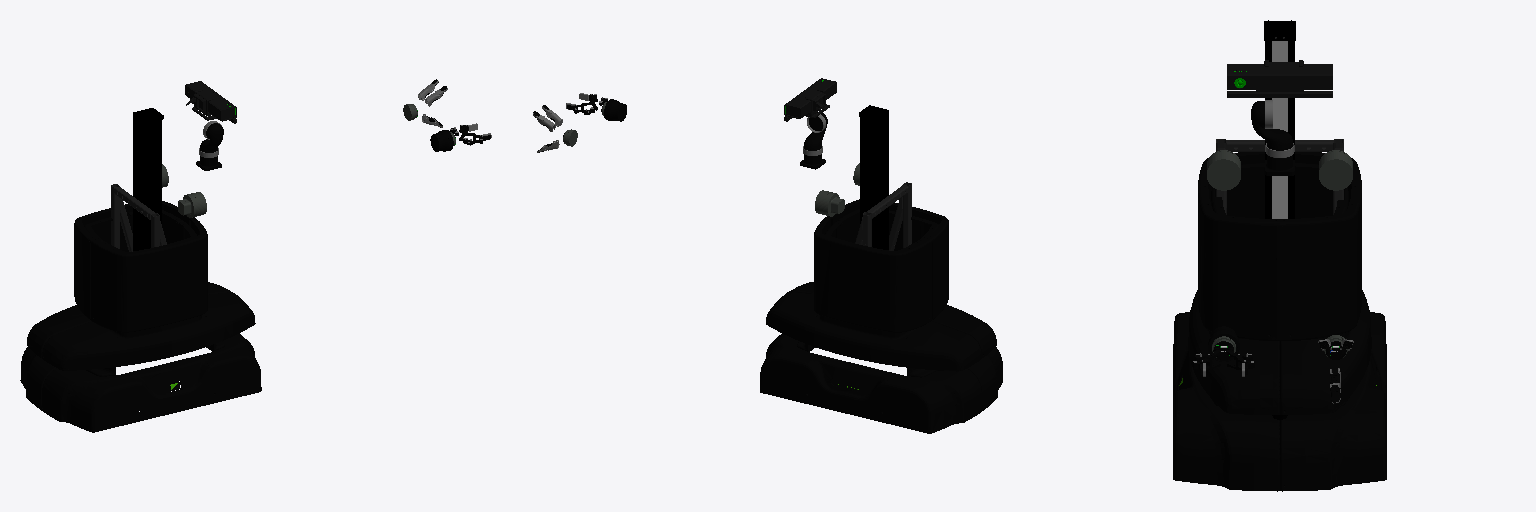
--- Render facts (derived) ---
3 views of the same robot in one strip: view 1: azimuth 30°, elevation 25°; view 2: azimuth 150°, elevation 25°; view 3: azimuth 270°, elevation 25° (orthographic).
Model movo with 53 links and 52 joints (21 revolute, 4 continuous, 2 prismatic, 25 fixed), rooted at base_link, posed every joint at zero.
Visible links, largest first — view 1: lower_body_link, mid_body_link, linear_actuator_fixed_link, kinect2_link, right_base_link, pan_link; view 2: lower_body_link, mid_body_link, linear_actuator_fixed_link, kinect2_link, left_base_link, pan_link; view 3: lower_body_link, mid_body_link, linear_actuator_fixed_link, kinect2_link, pan_link, right_base_link, left_base_link, pan_base_link.
Link boxes in pixels (<box>): lower_body_link: <box>20,210,261,432</box>; mid_body_link: <box>74,201,207,332</box>; linear_actuator_fixed_link: <box>111,108,166,251</box>; kinect2_link: <box>185,81,236,123</box>; right_base_link: <box>178,192,206,217</box>; pan_link: <box>200,121,223,152</box>; lower_body_link: <box>760,209,1002,433</box>; mid_body_link: <box>814,199,948,332</box>; linear_actuator_fixed_link: <box>855,105,911,250</box>; kinect2_link: <box>784,78,836,121</box>; left_base_link: <box>815,190,844,216</box>; pan_link: <box>804,112,827,150</box>; lower_body_link: <box>1173,163,1386,491</box>; mid_body_link: <box>1198,152,1361,340</box>; linear_actuator_fixed_link: <box>1216,20,1343,218</box>; kinect2_link: <box>1227,60,1332,97</box>; pan_link: <box>1251,100,1292,150</box>; right_base_link: <box>1207,150,1240,190</box>; left_base_link: <box>1319,150,1352,190</box>; pan_base_link: <box>1265,143,1294,175</box>.
Size in the robot's own frame: 1.71 by 0.5097 by 1.06 metres.
25 mesh visuals loaded from 28 distinct referenced files (15 Collada DAE); not drawn: 20 (reference not matched to a file when rendering).

URDF robot description (movo):
<?xml version="1.0" ?>
<!-- =================================================================================== -->
<!-- |    This document was autogenerated by xacro from [local-path]/movo_ws/src/kinova-movo-bare/movo_common/movo_description/urdf/movo.urdf.xacro | -->
<!-- |    EDITING THIS FILE BY HAND IS NOT RECOMMENDED                                 | -->
<!-- =================================================================================== -->
<!--
Software License Agreement (BSD)
\file      movo.urdf.xacro
\authors   Patrick Hussey
\copyright Copyright (c) 2017, Kinova Robotics inc. All rights reserved.
Redistribution and use in source and binary forms, with or without modification,
are permitted provided that the following conditions are met:
    * Redistributions of source code must retain the above copyright notice,
      this list of conditions and the following disclaimer.
    * Redistributions in binary form must reproduce the above copyright notice,
      this list of conditions and the following disclaimer in the documentation
      and/or other materials provided with the distribution.
    * Neither the name of the copyright holder nor the names of its contributors
      may be used to endorse or promote products derived from this software
      without specific prior written permission.
THIS SOFTWARE IS PROVIDED BY THE COPYRIGHT HOLDERS AND CONTRIBUTORS
"AS IS" AND ANY EXPRESS OR IMPLIED WARRANTIES, INCLUDING, BUT NOT
LIMITED TO, THE IMPLIED WARRANTIES OF MERCHANTABILITY AND FITNESS FOR
A PARTICULAR PURPOSE ARE DISCLAIMED. IN NO EVENT SHALL THE COPYRIGHT HOLDER OR
CONTRIBUTORS BE LIABLE FOR ANY DIRECT, INDIRECT, INCIDENTAL, SPECIAL,
EXEMPLARY, OR CONSEQUENTIAL DAMAGES (INCLUDING, BUT NOT LIMITED TO,
PROCUREMENT OF SUBSTITUTE GOODS OR SERVICES; LOSS OF USE, DATA, OR
PROFITS; OR BUSINESS INTERRUPTION) HOWEVER CAUSED AND ON ANY THEORY OF
LIABILITY, WHETHER IN CONTRACT, STRICT LIABILITY, OR TORT (INCLUDING
NEGLIGENCE OR OTHERWISE) ARISING IN ANY WAY OUT OF THE USE OF THIS
SOFTWARE, EVEN IF ADVISED OF THE POSSIBILITY OF SUCH DAMAGE.
-->
<!-- https://github.com/Learning-and-Intelligent-Systems/movo_ws/blob/master/src/kinova-movo-bare/movo_common/movo_description/urdf/movo.custom.urdf -->
<robot name="movo" xmlns:xacro="http://ros.org/wiki/xacro">
  <!-- Included URDF/XACRO Files -->
  <gazebo>
    <plugin filename="libgazebo_ros_control.so" name="gazebo_ros_control">
      <robotNamespace>/</robotNamespace>
    </plugin>
    <plugin filename="libgazebo_ros_force_based_move.so" name="object_controller">
      <robotNamespace>/</robotNamespace>
      <commandTopic>/movo/cmd_vel</commandTopic>
      <odometryTopic>/movo/odometry/wheel_odometry</odometryTopic>
      <odometryFrame>odom</odometryFrame>
      <odometryRate>100.0</odometryRate>
      <cmdVelTimeOut>0.2</cmdVelTimeOut>
      <robotBaseFrame>base_link</robotBaseFrame>
      <publishOdometryTf>0</publishOdometryTf>
      <yaw_velocity_p_gain>500.0</yaw_velocity_p_gain>
      <x_velocity_p_gain>10000.0</x_velocity_p_gain>
      <y_velocity_p_gain>10000.0</y_velocity_p_gain>
    </plugin>
    <plugin filename="libgazebo_ros_p3d.so" name="gazebo_ros_p3d">
      <bodyName>base_link</bodyName>
      <topicName>ground_truth_odom</topicName>
      <alwaysOn>true</alwaysOn>
      <updateRate>100.0</updateRate>
    </plugin>
  </gazebo>
  <!-- Base link is the center of the robot's chassis between the motors projected on the ground -->
  <link name="base_link" />
  <gazebo reference="base_link">
    <mu1>0.0</mu1>
  </gazebo>
  <joint name="base_chassis_joint" type="fixed">
    <origin rpy="0 0 0" xyz="0 0 0.0762" />
    <parent link="base_link" />
    <child link="base_chassis_link" />
  </joint>
  <link name="base_chassis_link">
    <inertial>
      <mass value="44.2877" />
      <origin xyz="-0.009506 -0.013039 0.032319" />
      <inertia ixx="0.000165" ixy="0" ixz="0" iyx="0" iyy="0.000559" iyz="0" izx="0" izy="0" izz="0.000714" />
    </inertial>
    <collision>
      <geometry>
        <mesh filename="package://movo_description/meshes/movo_components/collision/vector_base_collision.stl" />
      </geometry>
    </collision>
    <visual>
      <origin rpy="0 0 0" xyz="0 0 0" />
      <geometry>
        <mesh filename="package://movo_description/meshes/movo_components/visual/vector_base.dae" />
      </geometry>
    </visual>
  </link>
  <gazebo reference="base_chassis_link">
    <laserRetro>0</laserRetro>
  </gazebo>
  <gazebo reference="base_chassis_link">
    <mu1>0.0</mu1>
  </gazebo>
  <joint name="linear_actuator_fixed_joint" type="fixed">
    <origin rpy="0 0 0" xyz="0 0 0" />
    <parent link="base_chassis_link" />
    <child link="linear_actuator_fixed_link" />
  </joint>
  <link name="linear_actuator_fixed_link">
    <inertial>
      <mass value="15.877331" />
      <origin xyz="0.013724 0.000002 0.509500" />
      <inertia ixx="0.962473" ixy="0.000047" ixz="0.053722" iyx="0.000047" iyy="0.968691" iyz="-0.000058" izx="0.053722" izy="-0.000058" izz="0.098853" />
    </inertial>
    <collision>
      <geometry>
        <mesh filename="package://movo_description/meshes/movo_components/collision/movo_fixed_body_collision.stl" />
      </geometry>
    </collision>
    <visual>
      <origin rpy="0 0 0" xyz="0 0 0" />
      <geometry>
        <mesh filename="package://movo_description/meshes/movo_components/visual/movo_fixed_payload.dae" />
      </geometry>
    </visual>
  </link>
  <gazebo reference="linear_actuator_fixed_link">
    <laserRetro>0</laserRetro>
  </gazebo>
  <joint name="linear_joint" type="prismatic">
    <parent link="linear_actuator_fixed_link" />
    <child link="linear_actuator_link" />
    <origin rpy="0 0 0" xyz="0.0771402 0 0.3938763" />
    <axis xyz="0 0 1" />
    <limit effort="1000" lower="0.0" upper="0.472" velocity="0.20" />
    <dynamics damping="0.0" friction="0.0" />
  </joint>
  <link name="linear_actuator_link">
    <visual>
      <geometry>
        <mesh filename="package://movo_description/meshes/movo_components/visual/movo_moving_payload.dae" />
      </geometry>
    </visual>
    <collision>
      <geometry>
        <mesh filename="package://movo_description/meshes/movo_components/collision/movo_upper_body_collision.stl" />
      </geometry>
    </collision>
    <inertial>
      <mass value="12.926242" />
      <origin xyz="-0.075467 -0.004693 0.397754" />
      <inertia ixx="0.300410" ixy="-0.010043" ixz="-0.054146" iyx="-0.010043" iyy="0.296460" iyz="-0.024977" izx="-0.054146" izy="-0.024977" izz="0.294778" />
    </inertial>
  </link>
  <gazebo reference="linear_actuator_link">
    <laserRetro>0</laserRetro>
  </gazebo>
  <transmission name="linear_trans">
    <type>transmission_interface/SimpleTransmission</type>
    <joint name="linear_joint">
      <hardwareInterface>PositionJointInterface</hardwareInterface>
    </joint>
    <actuator name="linear_motor">
      <mechanicalReduction>1</mechanicalReduction>
    </actuator>
  </transmission>
  <link name="sic_imu_frame" />
  <joint name="sic_imu_joint" type="fixed">
    <origin rpy="3.14159 0 1.570795" xyz="0.0326421 0.0899448 0.0082008" />
    <parent link="base_chassis_link" />
    <child link="sic_imu_frame" />
  </joint>
  <gazebo>
    <plugin filename="libhector_gazebo_ros_imu.so" name="sic_imu_controller">
      <alwaysOn>1</alwaysOn>
      <updateRate>50.0</updateRate>
      <bodyName>sic_imu_frame</bodyName>
      <topicName>/movo/feedback/sic_imu</topicName>
      <accelDrift>0.0005 0.0005 0.0005</accelDrift>
      <accelGaussianNoise>0.0005 0.0005 0.0005</accelGaussianNoise>
      <rateDrift>0.0005 0.0005 0.0005</rateDrift>
      <rateGaussianNoise>0.00005 0.00005 0.00005</rateGaussianNoise>
      <headingDrift>0.00005</headingDrift>
      <headingGaussianNoise>0.00005</headingGaussianNoise>
    </plugin>
  </gazebo>
  <joint name="front_laser_joint" type="fixed">
    <origin rpy="3.14159 0 0" xyz="0.3375 0 0.1439106" />
    <parent link="base_chassis_link" />
    <child link="front_laser_link" />
  </joint>
  <link name="front_laser_link">
    <visual>
      <geometry>
        <mesh filename="package://movo_description/meshes/sensors/visual/sick_tim.dae" />
      </geometry>
    </visual>
    <collision>
      <geometry>
        <box size="0.1 0.1 0.1" />
      </geometry>
    </collision>
  </link>
  <gazebo reference="front_laser_link">
    <sensor name="front_laser" type="ray">
      <pose>0 0 0 0 0 0</pose>
      <visualize>false</visualize>
      <update_rate>15</update_rate>
      <ray>
        <scan>
          <horizontal>
            <samples>720</samples>
            <resolution>1</resolution>
            <min_angle>-2.0</min_angle>
            <max_angle>2.0</max_angle>
          </horizontal>
        </scan>
        <range>
          <min>0.1</min>
          <max>25.0</max>
          <resolution>0.01</resolution>
        </range>
        <noise>
          <type>gaussian</type>
          <mean>0.0</mean>
          <stddev>0.01</stddev>
        </noise>
      </ray>
      <plugin filename="libgazebo_ros_laser.so" name="front_laser_node">
        <topicName>/movo/front_scan</topicName>
        <frameName>front_laser_link</frameName>
      </plugin>
    </sensor>
  </gazebo>
  <joint name="rear_laser_joint" type="fixed">
    <origin rpy="3.14159 0 3.14159" xyz="-0.3375 0 0.1439106" />
    <parent link="base_chassis_link" />
    <child link="rear_laser_link" />
  </joint>
  <link name="rear_laser_link">
    <visual>
      <geometry>
        <mesh filename="package://movo_description/meshes/sensors/visual/sick_tim.dae" />
      </geometry>
    </visual>
    <collision>
      <geometry>
        <box size="0.1 0.1 0.1" />
      </geometry>
    </collision>
  </link>
  <gazebo reference="rear_laser_link">
    <sensor name="rear_laser" type="ray">
      <pose>0 0 0 0 0 0</pose>
      <visualize>false</visualize>
      <update_rate>15</update_rate>
      <ray>
        <scan>
          <horizontal>
            <samples>720</samples>
            <resolution>1</resolution>
            <min_angle>-2.0</min_angle>
            <max_angle>2.0</max_angle>
          </horizontal>
        </scan>
        <range>
          <min>0.1</min>
          <max>25.0</max>
          <resolution>0.01</resolution>
        </range>
        <noise>
          <type>gaussian</type>
          <mean>0.0</mean>
          <stddev>0.01</stddev>
        </noise>
      </ray>
      <plugin filename="libgazebo_ros_laser.so" name="rear_laser_node">
        <topicName>/movo/rear_scan</topicName>
        <frameName>rear_laser_link</frameName>
      </plugin>
    </sensor>
  </gazebo>
  <joint name="pan_base_joint" type="fixed">
    <origin rpy="0 0 0" xyz="0.19735 0 0.3449888" />
    <parent link="linear_actuator_link" />
    <child link="pan_base_link" />
  </joint>
  <link name="pan_base_link">
    <visual>
      <geometry>
        <mesh filename="package://movo_description/meshes/pan_tilt/visual/pan_tilt_base.dae" />
      </geometry>
    </visual>
    <collision>
      <geometry>
        <mesh filename="package://movo_description/meshes/pan_tilt/collision/pan_tilt_base.stl" />
      </geometry>
    </collision>
    <inertial>
      <mass value="0.271282" />
      <origin xyz="0.000098 -0.000007 0.034804" />
      <inertia ixx="0.000158" ixy="0.000000" ixz="-0.000001" iyx="0.000000" iyy="0.000151" iyz="0.000000" izx="-0.000001" izy="0.000000" izz="0.000150" />
    </inertial>
  </link>
  <joint name="pan_joint" type="revolute">
    <origin rpy="3.14159 0 0" xyz="0 0 0.05525" />
    <axis xyz="0 0 1" />
    <parent link="pan_base_link" />
    <child link="pan_link" />
    <limit effort="7.0" lower="-1.570796326794897" upper="1.570796326794897" velocity="0.907571211" />
  </joint>
  <transmission name="pan_trans" type="SimpleTransmission">
    <type>transmission_interface/SimpleTransmission</type>
    <joint name="pan_joint">
      <hardwareInterface>PositionJointInterface</hardwareInterface>
    </joint>
    <actuator name="pan_actuator">
      <mechanicalReduction>1</mechanicalReduction>
    </actuator>
  </transmission>
  <link name="pan_link">
    <visual>
      <geometry>
        <mesh filename="package://movo_description/meshes/pan_tilt/visual/pan_link.dae" />
      </geometry>
    </visual>
    <collision>
      <origin rpy="0 0 0" xyz="0 0 0" />
      <geometry>
        <mesh filename="package://movo_description/meshes/pan_tilt/collision/pan_link.stl" />
      </geometry>
    </collision>
    <inertial>
      <mass value="0.470548" />
      <origin xyz="-0.000036 0.021015 -0.052191" />
      <inertia ixx="0.000957" ixy="0.000000" ixz="0.000000" iyx="0.000000" iyy="0.000805" iyz="-0.000328" izx="0.000000" izy="-0.000328" izz="0.000353" />
    </inertial>
  </link>
  <joint name="tilt_joint" type="revolute">
    <origin rpy="-1.570795 1.570795 0" xyz="0 0.026 -0.09075" />
    <axis xyz="0 0 1" />
    <parent link="pan_link" />
    <child link="tilt_link" />
    <limit effort="7.0" lower="-1.570796326794897" upper="1.570796326794897" velocity="0.907571211" />
  </joint>
  <transmission name="tilt_trans" type="SimpleTransmission">
    <type>transmission_interface/SimpleTransmission</type>
    <joint name="tilt_joint">
      <hardwareInterface>PositionJointInterface</hardwareInterface>
    </joint>
    <actuator name="tilt_actuator">
      <mechanicalReduction>1</mechanicalReduction>
    </actuator>
  </transmission>
  <link name="tilt_link">
    <visual>
      <geometry>
        <mesh filename="package://movo_description/meshes/pan_tilt/visual/tilt_link.dae" />
      </geometry>
    </visual>
    <collision>
      <geometry>
        <mesh filename="package://movo_description/meshes/pan_tilt/collision/tilt_link.stl" />
      </geometry>
    </collision>
    <inertial>
      <mass value="0.434513" />
      <origin xyz="0.037380 0.005753 -0.019367" />
      <inertia ixx="0.000418" ixy="0.000123" ixz="-0.000065" iyx="0.000123" iyy="0.001134" iyz="-0.000003" izx="-0.000065" izy="-0.000003" izz="0.000967" />
    </inertial>
  </link>
  <joint name="kinect2_joint" type="fixed">
    <origin rpy="-1.570795 0 -1.570795" xyz="0.05825 -0.0105875 -0.026" />
    <parent link="tilt_link" />
    <child link="kinect2_link" />
  </joint>
  <link name="kinect2_link">
    <inertial>
      <mass value="1.4" />
      <origin xyz="-0.000036 0.021015 -0.052191" />
      <inertia ixx="0.0006835" ixy="-0.000042" ixz="0.000010" iyx="-0.000042" iyy="0.001197" iyz="0.000006" izx="0.000010" izy="0.000006" izz="0.007020" />
    </inertial>
    <visual>
      <geometry>
        <mesh filename="package://movo_description/meshes/sensors/visual/kinect_one.dae" />
      </geometry>
    </visual>
    <collision>
      <geometry>
        <mesh filename="package://movo_description/meshes/sensors/collision/kinect_one_collision.stl" />
      </geometry>
    </collision>
  </link>
  <link name="kinect2_ir_link" />
  <joint name="kinect2_ir_joint" type="fixed">
    <parent link="kinect2_link" />
    <child link="kinect2_ir_link" />
    <origin rpy="0 0 0" xyz="0.0245 -0.03325  0.04201" />
  </joint>
  <link name="kinect2_ir_optical_frame" />
  <joint name="kinect2_ir_optical_frame_joint" type="fixed">
    <origin rpy="-1.570795 0 -1.570795" xyz="0 0 0" />
    <parent link="kinect2_ir_link" />
    <child link="kinect2_ir_optical_frame" />
  </joint>
  <link name="kinect2_rgb_link" />
  <joint name="kinect2_rgb_joint" type="fixed">
    <parent link="kinect2_ir_link" />
    <child link="kinect2_rgb_link" />
    <origin rpy="0 0 0" xyz="0 -0.06175  0" />
  </joint>
  <link name="kinect2_rgb_optical_frame" />
  <joint name="kinect2_rgb_optical_joint" type="fixed">
    <parent link="kinect2_rgb_link" />
    <child link="kinect2_rgb_optical_frame" />
    <origin rpy="-1.570795 0 -1.570795" xyz="0 0 0" />
  </joint>
  <gazebo reference="kinect2_ir_link">
    <sensor name="kinect2_ir_sensor" type="depth">
      <always_on>true</always_on>
      <update_rate>30.0</update_rate>
      <camera>
        <horizontal_fov>1.22172944444</horizontal_fov>
        <image>
          <format>L8</format>
          <width>512</width>
          <height>424</height>
        </image>
        <clip>
          <near>0.01</near>
          <far>100</far>
        </clip>
      </camera>
      <plugin filename="libgazebo_ros_openni_kinect.so" name="kinect2_ir_link_controller">
        <baseline>0.2</baseline>
        <alwaysOn>true</alwaysOn>
        <updateRate>1.0</updateRate>
        <cameraName>kinect2/sd/image_ir</cameraName>
        <imageTopicName>/kinect2/sd/image_ir</imageTopicName>
        <cameraInfoTopicName>/kinect2/sd/camera_info</cameraInfoTopicName>
        <depthImageTopicName>/kinect2/sd/image_depth</depthImageTopicName>
        <depthImageCameraInfoTopicName>/kinect2/sd/depth/camera_info</depthImageCameraInfoTopicName>
        <pointCloudTopicName>/kinect2/sd/points</pointCloudTopicName>
        <frameName>kinect2_ir_optical_frame</frameName>
        <pointCloudCutoff>0.1</pointCloudCutoff>
        <pointCloudCutoffMax>12.0</pointCloudCutoffMax>
        <distortionK1>0.0</distortionK1>
        <distortionK2>0.0</distortionK2>
        <distortionK3>0.0</distortionK3>
        <distortionT1>0.0</distortionT1>
        <distortionT2>0.0</distortionT2>
        <CxPrime>0</CxPrime>
        <Cx>0</Cx>
        <Cy>0</Cy>
        <focalLength>0</focalLength>
        <hackBaseline>0</hackBaseline>
      </plugin>
    </sensor>
    <material value="Gazebo/Red" />
  </gazebo>
  <joint name="lower_body_joint" type="fixed">
    <origin rpy="0 0 0" xyz="0 0 0" />
    <parent link="base_chassis_link" />
    <child link="lower_body_link" />
  </joint>
  <link name="lower_body_link">
    <inertial>
      <mass value="7.753378" />
      <origin xyz="0.000143 0.000727 0.188079" />
      <inertia ixx="0.339365" ixy="0.000325" ixz="0.000146" iyx="0.000325" iyy="0.590290" iyz="-0.001078" izx="0.000146" izy="-0.001078" izz="0.588946" />
    </inertial>
    <visual>
      <origin rpy="0 0 0" xyz="0 0 0" />
      <geometry>
        <mesh filename="package://movo_description/meshes/movo_body/movo_lower_body.dae" />
      </geometry>
    </visual>
  </link>
  <joint name="upper_body_joint" type="fixed">
    <origin rpy="0 0 0" xyz="0 0 0" />
    <parent link="linear_actuator_link" />
    <child link="upper_body_link" />
  </joint>
  <link name="upper_body_link">
    <inertial>
      <mass value="6.246912" />
      <origin xyz="-0.080608 0.000290 0.286026" />
      <inertia ixx="0.425973" ixy="0.000022" ixz="-0.015916" iyx="0.000022" iyy="0.439921" iyz="-0.000555" izx="-0.015916" izy="-0.000555" izz="0.305785" />
    </inertial>
    <visual>
      <origin rpy="0 0 0" xyz="0 0 0" />
      <geometry>
        <mesh filename="package://movo_description/meshes/movo_body/movo_upper_body.dae" />
      </geometry>
    </visual>
  </link>
  <joint name="mid_body_joint" type="prismatic">
    <parent link="base_chassis_link" />
    <child link="mid_body_link" />
    <origin rpy="0 0 0" xyz="0.0771402 0 0.3938763" />
    <axis xyz="0 0 1" />
    <limit effort="1000" lower="0.0" upper="0.2545608" velocity="0.20" />
    <dynamics damping="0.0" friction="0.0" />
    <mimic joint="linear_joint" multiplier="0.5" offset="0.0" />
  </joint>
  <link name="mid_body_link">
    <inertial>
      <mass value="2.246837" />
      <origin xyz="-0.077140 0.000000 0.026602" />
      <inertia ixx="0.067276" ixy="0.000000" ixz="0.000000" iyx="0.000000" iyy="0.073946" iyz="0.000000" izx="0.000000" izy="0.000000" izz="0.102656" />
    </inertial>
    <visual>
      <origin rpy="0 0 0" xyz="0 0 0" />
      <geometry>
        <mesh filename="package://movo_description/meshes/movo_body/movo_mid_body.dae" />
      </geometry>
    </visual>
  </link>
  <gazebo reference="mid_body_link">
    <gravity>0</gravity>
  </gazebo>
  <gazebo>
    <!-- loading plugin: mimic joints works in gazebo now -->
    <plugin filename="libroboticsgroup_gazebo_mimic_joint_plugin.so" name="mid_body_mimic">
      <joint>linear_joint</joint>
      <mimicJoint>mid_body_joint</mimicJoint>
      <multiplier>0.5</multiplier>
      <offset>0.0</offset>
      <maxEffort>100000.0</maxEffort>
    </plugin>
  </gazebo>
  <joint name="right_kinova_joint" type="fixed">
    <parent link="linear_actuator_link" />
    <child link="right_base_link" />
    <origin rpy="-1.570796325 0 -1.570796325" xyz="0.0261046 -0.13335 0.2799937" />
  </joint>
  <link name="right_base_link">
    <visual>
      <geometry>
        <mesh filename="package://movo_description/meshes/manipulation/jaco/visual/base.dae" />
      </geometry>
    </visual>
    <collision>
      <geometry>
        <mesh filename="package://movo_description/meshes/manipulation/jaco/collision/base.stl" />
      </geometry>
    </collision>
    <inertial>
      <mass value="0.649618" />
      <origin xyz="-0.000146 0.0 0.031039" />
      <inertia ixx="0.000652" ixy="-0.000000" ixz="0.000001" iyx="0.000000" iyy="0.000646" iyz="0.000000" izx="0.000001" izy="0.000000" izz="0.000480" />
    </inertial>
  </link>
  <gazebo reference="right_base_link">
    <implicitSpringDamper>1</implicitSpringDamper>
    <kp>1000000.0</kp>
    <kd>100.0</kd>
    <mu1>1.0</mu1>
    <mu2>1.0</mu2>
    <maxVel>100.0</maxVel>
    <minDepth>0.001</minDepth>
  </gazebo>
  <joint name="right_shoulder_pan_joint" type="revolute">
    <parent link="right_base_link" />
    <child link="right_shoulder_link" />
    <origin rpy="0 3.14159265 0" xyz="0 0 0.0625" />
    <axis xyz="0 0 1" />
    <limit effort="18000.0" lower="-3.14159265" upper="3.14159265" velocity="0.691150384" />
    <dynamics damping="0.01" friction="0.0" />
  </joint>
  <link name="right_shoulder_link">
    <visual>
      <geometry>
        <mesh filename="package://movo_description/meshes/manipulation/jaco/visual/shoulder_7dof.dae" />
      </geometry>
    </visual>
    <collision>
      <geometry>
        <mesh filename="package://movo_description/meshes/manipulation/jaco/collision/shoulder_7dof.stl" />
      </geometry>
    </collision>
    <inertial>
      <mass value="0.824524" />
      <origin xyz="0.000018 -0.004667 -0.060609" />
      <inertia ixx="0.002561" ixy="0.000000" ixz="0.000001" iyx="0.000000" iyy="0.002653" iyz="0.000212" izx="0.000001" izy="0.000212" izz="0.000524" />
    </inertial>
  </link>
  <gazebo reference="right_shoulder_link">
    <implicitSpringDamper>1</implicitSpringDamper>
    <kp>1000000.0</kp>
    <kd>100.0</kd>
    <mu1>1.0</mu1>
    <mu2>1.0</mu2>
    <maxVel>100.0</maxVel>
    <minDepth>0.001</minDepth>
  </gazebo>
  <joint name="right_shoulder_lift_joint" type="revolute">
    <parent link="right_shoulder_link" />
    <child link="right_arm_half_1_link" />
    <origin rpy="1.570796325 0 0" xyz="0 0 -0.11875" />
    <axis xyz="0 0 1" />
    <limit effort="30000.5" lower="-2.238" upper="2.238" velocity="0.691150384" />
    <dynamics damping="0.01" friction="0.0" />
  </joint>
  <link name="right_arm_half_1_link">
    <visual>
      <geometry>
        <mesh filename="package://movo_description/meshes/manipulation/jaco/visual/arm_half_1.dae" />
      </geometry>
    </visual>
    <collision>
      <geometry>
        <mesh filename="package://movo_description/meshes/manipulation/jaco/collision/arm_half_1.stl" />
      </geometry>
    </collision>
    <inertial>
      <mass value="0.8447" />
      <origin xyz="0 -0.103563213 0" />
      <inertia ixx="0.000435" ixy="0.000002" ixz="0.000231" iyx="0.000002" iyy="0.034947" iyz="0.000000" izx="0.000231" izy="0.000000" izz="0.035198" />
    </inertial>
  </link>
  <gazebo reference="right_arm_half_1_link">
    <implicitSpringDamper>1</implicitSpringDamper>
    <kp>1000000.0</kp>
    <kd>100.0</kd>
    <mu1>1.0</mu1>
    <mu2>1.0</mu2>
    <maxVel>100.0</maxVel>
    <minDepth>0.001</minDepth>
  </gazebo>
  <joint name="right_arm_half_joint" type="revolute">
    <parent link="right_arm_half_1_link" />
    <child link="right_arm_half_2_link" />
    <origin rpy="-1.570796325 0 0" xyz="0 -0.205 0" />
    <axis xyz="0 0 1" />
    <limit effort="30000.5" lower="-3.14159265" upper="3.14159265" velocity="0.691150384" />
    <dynamics damping="0.01" friction="0.0" />
  </joint>
  <link name="right_arm_half_2_link">
    <visual>
      <geometry>
        <mesh filename="package://movo_description/meshes/manipulation/jaco/visual/arm_half_2.dae" />
      </geometry>
    </visual>
    <collision>
      <geometry>
        <mesh filename="package://movo_description/meshes/manipulation/jaco/collision/arm_half_2.stl" />
      </geometry>
    </collision>
    <inertial>
      <mass value="0.8447" />
      <origin xyz="0 0 -0.1022447445" />
      <inertia ixx="0.000435" ixy="0.000002" ixz="0.000231" iyx="0.000002" iyy="0.034947" iyz="0.000000" izx="0.000231" izy="0.000000" izz="0.035198" />
    </inertial>
  </link>
  <gazebo reference="right_arm_half_2_link">
    <implicitSpringDamper>1</implicitSpringDamper>
    <kp>1000000.0</kp>
    <kd>100.0</kd>
    <mu1>1.0</mu1>
    <mu2>1.0</mu2>
    <maxVel>100.0</maxVel>
    <minDepth>0.001</minDepth>
  </gazebo>
  <joint name="right_elbow_joint" type="revolute">
    <parent link="right_arm_half_2_link" />
    <child link="right_forearm_link" />
    <origin rpy="-1.570796325 0 0" xyz="0 0 -0.205" />
    <axis xyz="0 0 1" />
    <limit effort="18000.0" lower="-2.809" upper="2.809" velocity="0.691150384" />
    <dynamics damping="0.01" friction="0.0" />
  </joint>
  <link name="right_forearm_link">
    <visual>
      <geometry>
        <mesh filename="package://movo_description/meshes/manipulation/jaco/visual/forearm_7dof.dae" />
      </geometry>
    </visual>
    <collision>
      <geometry>
        <mesh filename="package://movo_description/meshes/manipulation/jaco/collision/forearm_7dof.stl" />
      </geometry>
    </collision>
    <inertial>
      <mass value="0.674254" />
      <origin xyz="0 0.081 -0.0086" />
      <inertia ixx="0.005453" ixy="0.000003" ixz="0.000000" iyx="0.000003" iyy="0.000305" iyz="0.000087" izx="0.000000" izy="0.000087" izz="0.005578" />
    </inertial>
  </link>
  <joint name="right_wrist_spherical_1_joint" type="revolute">
    <parent link="right_forearm_link" />
    <child link="right_wrist_spherical_1_link" />
    <!--  <origin xyz="0 0.20725 0 " rpy="${wrist_spherical_1_joint_rpy}" /> -->
    <origin rpy="1.570796325 3.14159265 0" xyz="0 0.2073 -0.0114" />
    <axis xyz="0 0 1" />
    <limit effort="60000.8" lower="-3.14159265" upper="3.14159265" velocity="0.921533845" />
    <dynamics damping="0.01" friction="0.0" />
  </joint>
  <link name="right_wrist_spherical_1_link">
    <visual>
      <geometry>
        <mesh filename="package://movo_description/meshes/manipulation/jaco/visual/wrist_spherical_1.dae" />
      </geometry>
    </visual>
    <collision>
      <geometry>
        <mesh filename="package://movo_description/meshes/manipulation/jaco/collision/wrist_spherical_1.stl" />
      </geometry>
    </collision>
    <inertial>
      <mass value="0.463" />
      <origin xyz="0 0.0028848942 -0.0541932613" />
      <inertia ixx="0.000392" ixy="0.000000" ixz="0.000000" iyx="0.000000" iyy="0.000347" iyz="0.000101" izx="0.000000" izy="0.000101" izz="0.000233" />
    </inertial>
  </link>
  <gazebo reference="right_wrist_spherical_1_link">
    <implicitSpringDamper>1</implicitSpringDamper>
    <kp>1000000.0</kp>
    <kd>100.0</kd>
    <mu1>1.0</mu1>
    <mu2>1.0</mu2>
    <maxVel>100.0</maxVel>
    <minDepth>0.001</minDepth>
  </gazebo>
  <joint name="right_wrist_spherical_2_joint" type="revolute">
    <parent link="right_wrist_spherical_1_link" />
    <child link="right_wrist_spherical_2_link" />
    <origin rpy="-1.570796325 0 0" xyz="0 0 -0.10375 " />
    <axis xyz="0 0 1" />
    <limit effort="60000.8" lower="-2.78" upper="2.78" velocity="0.921533845" />
    <dynamics damping="0.01" friction="0.0" />
  </joint>
  <link name="right_wrist_spherical_2_link">
    <visual>
      <geometry>
        <mesh filename="package://movo_description/meshes/manipulation/jaco/visual/wrist_spherical_2.dae" />
      </geometry>
    </visual>
    <collision>
      <geometry>
        <mesh filename="package://movo_description/meshes/manipulation/jaco/collision/wrist_spherical_2.stl" />
      </geometry>
    </collision>
    <inertial>
      <mass value="0.463" />
      <origin xyz="0 0.0497208855 -0.0028562765" />
      <inertia ixx="0.000392" ixy="0.000000" ixz="0.000000" iyx="0.000000" iyy="0.000347" iyz="0.000101" izx="0.000000" izy="0.000101" izz="0.000233" />
    </inertial>
  </link>
  <gazebo reference="right_wrist_spherical_2_link">
    <implicitSpringDamper>1</implicitSpringDamper>
    <kp>1000000.0</kp>
    <kd>100.0</kd>
    <mu1>1.0</mu1>
    <mu2>1.0</mu2>
    <maxVel>100.0</maxVel>
    <minDepth>0.001</minDepth>
  </gazebo>
  <joint name="right_wrist_3_joint" type="revolute">
    <parent link="right_wrist_spherical_2_link" />
    <child link="right_wrist_3_link" />
    <origin rpy="1.570796325 3.14159265 0" xyz="0 0.10375 0" />
    <axis xyz="0 0 1" />
    <limit effort="60000.8" lower="-3.14159265" upper="3.14159265" velocity="0.921533845" />
    <dynamics damping="0.01" friction="0.0" />
  </joint>
  <link name="right_wrist_3_link">
    <visual>
      <geometry>
        <mesh filename="package://movo_description/meshes/manipulation/jaco/visual/kinova_actuator_gearing.dae" />
      </geometry>
    </visual>
    <collision>
      <geometry>
        <mesh filename="package://movo_description/meshes/manipulation/jaco/collision/kinova_actuator_gearing.stl" />
      </geometry>
    </collision>
    <inertial>
      <mass value="0.190782" />
      <origin xyz="-0.00082 0.000048 -0.216121" />
      <inertia ixx="0.000048" ixy="0.000000" ixz="0.000000" iyx="0.000000" iyy="0.000049" iyz="0.000000" izx="0.000000" izy="0.000000" izz="0.000072" />
    </inertial>
  </link>
  <gazebo reference="right_wrist_3_link">
    <implicitSpringDamper>1</implicitSpringDamper>
    <kp>1000000.0</kp>
    <kd>100.0</kd>
    <mu1>1.0</mu1>
    <mu2>1.0</mu2>
    <maxVel>100.0</maxVel>
    <minDepth>0.001</minDepth>
  </gazebo>
  <joint name="right_ee_fixed_joint" type="fixed">
    <parent link="right_wrist_3_link" />
    <child link="right_ee_link" />
    <origin rpy="3.14159265 1.570796325 0" xyz="0 0 -0.1600" />
  </joint>
  <link name="right_ee_link" />
  <transmission name="right_shoulder_pan_trans">
    <type>transmission_interface/SimpleTransmission</type>
    <joint name="right_shoulder_pan_joint">
      <hardwareInterface>PositionJointInterface</hardwareInterface>
    </joint>
    <actuator name="right_shoulder_pan_motor">
      <mechanicalReduction>1</mechanicalReduction>
    </actuator>
  </transmission>
  <transmission name="right_shoulder_lift_trans">
    <type>transmission_interface/SimpleTransmission</type>
    <joint name="right_shoulder_lift_joint">
      <hardwareInterface>PositionJointInterface</hardwareInterface>
    </joint>
    <actuator name="right_shoulder_lift_motor">
      <mechanicalReduction>1</mechanicalReduction>
    </actuator>
  </transmission>
  <transmission name="right_half_arm_trans">
    <type>transmission_interface/SimpleTransmission</type>
    <joint name="right_arm_half_joint">
      <hardwareInterface>PositionJointInterface</hardwareInterface>
    </joint>
    <actuator name="right_arm_half_motor">
      <mechanicalReduction>1</mechanicalReduction>
    </actuator>
  </transmission>
  <transmission name="right_elbow_trans">
    <type>transmission_interface/SimpleTransmission</type>
    <joint name="right_elbow_joint">
      <hardwareInterface>PositionJointInterface</hardwareInterface>
    </joint>
    <actuator name="right_elbow_motor">
      <mechanicalReduction>1</mechanicalReduction>
    </actuator>
  </transmission>
  <transmission name="right_wrist_spherical_1_trans">
    <type>transmission_interface/SimpleTransmission</type>
    <joint name="right_wrist_spherical_1_joint">
      <hardwareInterface>PositionJointInterface</hardwareInterface>
    </joint>
    <actuator name="right_wrist_spherical_1_motor">
      <mechanicalReduction>1</mechanicalReduction>
    </actuator>
  </transmission>
  <transmission name="right_wrist_spherical_2_trans">
    <type>transmission_interface/SimpleTransmission</type>
    <joint name="right_wrist_spherical_2_joint">
      <hardwareInterface>PositionJointInterface</hardwareInterface>
    </joint>
    <actuator name="right_wrist_spherical_2_motor">
      <mechanicalReduction>1</mechanicalReduction>
    </actuator>
  </transmission>
  <transmission name="right_wrist_3_trans">
    <type>transmission_interface/SimpleTransmission</type>
    <joint name="right_wrist_3_joint">
      <hardwareInterface>PositionJointInterface</hardwareInterface>
    </joint>
    <actuator name="right_wrist_3_motor">
      <mechanicalReduction>1</mechanicalReduction>
    </actuator>
  </transmission>
  <joint name="left_kinova_joint" type="fixed">
    <parent link="linear_actuator_link" />
    <child link="left_base_link" />
    <origin rpy="-1.570796325 0 -1.570796325" xyz="0.0261046 0.13335 0.2799937" />
  </joint>
  <link name="left_base_link">
    <visual>
      <geometry>
        <mesh filename="package://movo_description/meshes/manipulation/jaco/visual/base.dae" />
      </geometry>
    </visual>
    <collision>
      <geometry>
        <mesh filename="package://movo_description/meshes/manipulation/jaco/collision/base.stl" />
      </geometry>
    </collision>
    <inertial>
      <mass value="0.649618" />
      <origin xyz="-0.000146 0.0 0.031039" />
      <inertia ixx="0.000652" ixy="-0.000000" ixz="0.000001" iyx="0.000000" iyy="0.000646" iyz="0.000000" izx="0.000001" izy="0.000000" izz="0.000480" />
    </inertial>
  </link>
  <gazebo reference="left_base_link">
    <implicitSpringDamper>1</implicitSpringDamper>
    <kp>1000000.0</kp>
    <kd>100.0</kd>
    <mu1>1.0</mu1>
    <mu2>1.0</mu2>
    <maxVel>100.0</maxVel>
    <minDepth>0.001</minDepth>
  </gazebo>
  <joint name="left_shoulder_pan_joint" type="revolute">
    <parent link="left_base_link" />
    <child link="left_shoulder_link" />
    <origin rpy="0 3.14159265 0" xyz="0 0 0.0625" />
    <axis xyz="0 0 1" />
    <limit effort="18000.0" lower="-3.14159265" upper="3.14159265" velocity="0.691150384" />
    <dynamics damping="0.01" friction="0.0" />
  </joint>
  <link name="left_shoulder_link">
    <visual>
      <geometry>
        <mesh filename="package://movo_description/meshes/manipulation/jaco/visual/shoulder_7dof.dae" />
      </geometry>
    </visual>
    <collision>
      <geometry>
        <mesh filename="package://movo_description/meshes/manipulation/jaco/collision/shoulder_7dof.stl" />
      </geometry>
    </collision>
    <inertial>
      <mass value="0.824524" />
      <origin xyz="0.000018 -0.004667 -0.060609" />
      <inertia ixx="0.002561" ixy="0.000000" ixz="0.000001" iyx="0.000000" iyy="0.002653" iyz="0.000212" izx="0.000001" izy="0.000212" izz="0.000524" />
    </inertial>
  </link>
  <gazebo reference="left_shoulder_link">
    <implicitSpringDamper>1</implicitSpringDamper>
    <kp>1000000.0</kp>
    <kd>100.0</kd>
    <mu1>1.0</mu1>
    <mu2>1.0</mu2>
    <maxVel>100.0</maxVel>
    <minDepth>0.001</minDepth>
  </gazebo>
  <joint name="left_shoulder_lift_joint" type="revolute">
    <parent link="left_shoulder_link" />
    <child link="left_arm_half_1_link" />
    <origin rpy="1.570796325 0 0" xyz="0 0 -0.11875" />
    <axis xyz="0 0 1" />
    <limit effort="30000.5" lower="-2.238" upper="2.238" velocity="0.691150384" />
    <dynamics damping="0.01" friction="0.0" />
  </joint>
  <link name="left_arm_half_1_link">
    <visual>
      <geometry>
        <mesh filename="package://movo_description/meshes/manipulation/jaco/visual/arm_half_1.dae" />
      </geometry>
    </visual>
    <collision>
      <geometry>
        <mesh filename="package://movo_description/meshes/manipulation/jaco/collision/arm_half_1.stl" />
      </geometry>
    </collision>
    <inertial>
      <mass value="0.8447" />
      <origin xyz="0 -0.103563213 0" />
      <inertia ixx="0.000435" ixy="0.000002" ixz="0.000231" iyx="0.000002" iyy="0.034947" iyz="0.000000" izx="0.000231" izy="0.000000" izz="0.035198" />
    </inertial>
  </link>
  <gazebo reference="left_arm_half_1_link">
    <implicitSpringDamper>1</implicitSpringDamper>
    <kp>1000000.0</kp>
    <kd>100.0</kd>
    <mu1>1.0</mu1>
    <mu2>1.0</mu2>
    <maxVel>100.0</maxVel>
    <minDepth>0.001</minDepth>
  </gazebo>
  <joint name="left_arm_half_joint" type="revolute">
    <parent link="left_arm_half_1_link" />
    <child link="left_arm_half_2_link" />
    <origin rpy="-1.570796325 0 0" xyz="0 -0.205 0" />
    <axis xyz="0 0 1" />
    <limit effort="30000.5" lower="-3.14159265" upper="3.14159265" velocity="0.691150384" />
    <dynamics damping="0.01" friction="0.0" />
  </joint>
  <link name="left_arm_half_2_link">
    <visual>
      <geometry>
        <mesh filename="package://movo_description/meshes/manipulation/jaco/visual/arm_half_2.dae" />
      </geometry>
    </visual>
    <collision>
      <geometry>
        <mesh filename="package://movo_description/meshes/manipulation/jaco/collision/arm_half_2.stl" />
      </geometry>
    </collision>
    <inertial>
      <mass value="0.8447" />
      <origin xyz="0 0 -0.1022447445" />
      <inertia ixx="0.000435" ixy="0.000002" ixz="0.000231" iyx="0.000002" iyy="0.034947" iyz="0.000000" izx="0.000231" izy="0.000000" izz="0.035198" />
    </inertial>
  </link>
  <gazebo reference="left_arm_half_2_link">
    <implicitSpringDamper>1</implicitSpringDamper>
    <kp>1000000.0</kp>
    <kd>100.0</kd>
    <mu1>1.0</mu1>
    <mu2>1.0</mu2>
    <maxVel>100.0</maxVel>
    <minDepth>0.001</minDepth>
  </gazebo>
  <joint name="left_elbow_joint" type="revolute">
    <parent link="left_arm_half_2_link" />
    <child link="left_forearm_link" />
    <origin rpy="-1.570796325 0 0" xyz="0 0 -0.205" />
    <axis xyz="0 0 1" />
    <limit effort="18000.0" lower="-2.809" upper="2.809" velocity="0.691150384" />
    <dynamics damping="0.01" friction="0.0" />
  </joint>
  <link name="left_forearm_link">
    <visual>
      <geometry>
        <mesh filename="package://movo_description/meshes/manipulation/jaco/visual/forearm_7dof.dae" />
      </geometry>
    </visual>
    <collision>
      <geometry>
        <mesh filename="package://movo_description/meshes/manipulation/jaco/collision/forearm_7dof.stl" />
      </geometry>
    </collision>
    <inertial>
      <mass value="0.674254" />
      <origin xyz="0 0.081 -0.0086" />
      <inertia ixx="0.005453" ixy="0.000003" ixz="0.000000" iyx="0.000003" iyy="0.000305" iyz="0.000087" izx="0.000000" izy="0.000087" izz="0.005578" />
    </inertial>
  </link>
  <joint name="left_wrist_spherical_1_joint" type="revolute">
    <parent link="left_forearm_link" />
    <child link="left_wrist_spherical_1_link" />
    <!--  <origin xyz="0 0.20725 0 " rpy="${wrist_spherical_1_joint_rpy}" /> -->
    <origin rpy="1.570796325 3.14159265 0" xyz="0 0.2073 -0.0114" />
    <axis xyz="0 0 1" />
    <limit effort="60000.8" lower="-3.14159265" upper="3.14159265" velocity="0.921533845" />
    <dynamics damping="0.01" friction="0.0" />
  </joint>
  <link name="left_wrist_spherical_1_link">
    <visual>
      <geometry>
        <mesh filename="package://movo_description/meshes/manipulation/jaco/visual/wrist_spherical_1.dae" />
      </geometry>
    </visual>
    <collision>
      <geometry>
        <mesh filename="package://movo_description/meshes/manipulation/jaco/collision/wrist_spherical_1.stl" />
      </geometry>
    </collision>
    <inertial>
      <mass value="0.463" />
      <origin xyz="0 0.0028848942 -0.0541932613" />
      <inertia ixx="0.000392" ixy="0.000000" ixz="0.000000" iyx="0.000000" iyy="0.000347" iyz="0.000101" izx="0.000000" izy="0.000101" izz="0.000233" />
    </inertial>
  </link>
  <gazebo reference="left_wrist_spherical_1_link">
    <implicitSpringDamper>1</implicitSpringDamper>
    <kp>1000000.0</kp>
    <kd>100.0</kd>
    <mu1>1.0</mu1>
    <mu2>1.0</mu2>
    <maxVel>100.0</maxVel>
    <minDepth>0.001</minDepth>
  </gazebo>
  <joint name="left_wrist_spherical_2_joint" type="revolute">
    <parent link="left_wrist_spherical_1_link" />
    <child link="left_wrist_spherical_2_link" />
    <origin rpy="-1.570796325 0 0" xyz="0 0 -0.10375 " />
    <axis xyz="0 0 1" />
    <limit effort="60000.8" lower="-2.78" upper="2.78" velocity="0.921533845" />
    <dynamics damping="0.01" friction="0.0" />
  </joint>
  <link name="left_wrist_spherical_2_link">
    <visual>
      <geometry>
        <mesh filename="package://movo_description/meshes/manipulation/jaco/visual/wrist_spherical_2.dae" />
      </geometry>
    </visual>
    <collision>
      <geometry>
        <mesh filename="package://movo_description/meshes/manipulation/jaco/collision/wrist_spherical_2.stl" />
      </geometry>
    </collision>
    <inertial>
      <mass value="0.463" />
      <origin xyz="0 0.0497208855 -0.0028562765" />
      <inertia ixx="0.000392" ixy="0.000000" ixz="0.000000" iyx="0.000000" iyy="0.000347" iyz="0.000101" izx="0.000000" izy="0.000101" izz="0.000233" />
    </inertial>
  </link>
  <gazebo reference="left_wrist_spherical_2_link">
    <implicitSpringDamper>1</implicitSpringDamper>
    <kp>1000000.0</kp>
    <kd>100.0</kd>
    <mu1>1.0</mu1>
    <mu2>1.0</mu2>
    <maxVel>100.0</maxVel>
    <minDepth>0.001</minDepth>
  </gazebo>
  <joint name="left_wrist_3_joint" type="revolute">
    <parent link="left_wrist_spherical_2_link" />
    <child link="left_wrist_3_link" />
    <origin rpy="1.570796325 3.14159265 0" xyz="0 0.10375 0" />
    <axis xyz="0 0 1" />
    <limit effort="60000.8" lower="-3.14159265" upper="3.14159265" velocity="0.921533845" />
    <dynamics damping="0.01" friction="0.0" />
  </joint>
  <link name="left_wrist_3_link">
    <visual>
      <geometry>
        <mesh filename="package://movo_description/meshes/manipulation/jaco/visual/kinova_actuator_gearing.dae" />
      </geometry>
    </visual>
    <collision>
      <geometry>
        <mesh filename="package://movo_description/meshes/manipulation/jaco/collision/kinova_actuator_gearing.stl" />
      </geometry>
    </collision>
    <inertial>
      <mass value="0.190782" />
      <origin xyz="-0.00082 0.000048 -0.216121" />
      <inertia ixx="0.000048" ixy="0.000000" ixz="0.000000" iyx="0.000000" iyy="0.000049" iyz="0.000000" izx="0.000000" izy="0.000000" izz="0.000072" />
    </inertial>
  </link>
  <gazebo reference="left_wrist_3_link">
    <implicitSpringDamper>1</implicitSpringDamper>
    <kp>1000000.0</kp>
    <kd>100.0</kd>
    <mu1>1.0</mu1>
    <mu2>1.0</mu2>
    <maxVel>100.0</maxVel>
    <minDepth>0.001</minDepth>
  </gazebo>
  <joint name="left_ee_fixed_joint" type="fixed">
    <parent link="left_wrist_3_link" />
    <child link="left_ee_link" />
    <origin rpy="3.14159265 1.570796325 0" xyz="0 0 -0.1600" />
  </joint>
  <link name="left_ee_link" />
  <transmission name="left_shoulder_pan_trans">
    <type>transmission_interface/SimpleTransmission</type>
    <joint name="left_shoulder_pan_joint">
      <hardwareInterface>PositionJointInterface</hardwareInterface>
    </joint>
    <actuator name="left_shoulder_pan_motor">
      <mechanicalReduction>1</mechanicalReduction>
    </actuator>
  </transmission>
  <transmission name="left_shoulder_lift_trans">
    <type>transmission_interface/SimpleTransmission</type>
    <joint name="left_shoulder_lift_joint">
      <hardwareInterface>PositionJointInterface</hardwareInterface>
    </joint>
    <actuator name="left_shoulder_lift_motor">
      <mechanicalReduction>1</mechanicalReduction>
    </actuator>
  </transmission>
  <transmission name="left_half_arm_trans">
    <type>transmission_interface/SimpleTransmission</type>
    <joint name="left_arm_half_joint">
      <hardwareInterface>PositionJointInterface</hardwareInterface>
    </joint>
    <actuator name="left_arm_half_motor">
      <mechanicalReduction>1</mechanicalReduction>
    </actuator>
  </transmission>
  <transmission name="left_elbow_trans">
    <type>transmission_interface/SimpleTransmission</type>
    <joint name="left_elbow_joint">
      <hardwareInterface>PositionJointInterface</hardwareInterface>
    </joint>
    <actuator name="left_elbow_motor">
      <mechanicalReduction>1</mechanicalReduction>
    </actuator>
  </transmission>
  <transmission name="left_wrist_spherical_1_trans">
    <type>transmission_interface/SimpleTransmission</type>
    <joint name="left_wrist_spherical_1_joint">
      <hardwareInterface>PositionJointInterface</hardwareInterface>
    </joint>
    <actuator name="left_wrist_spherical_1_motor">
      <mechanicalReduction>1</mechanicalReduction>
    </actuator>
  </transmission>
  <transmission name="left_wrist_spherical_2_trans">
    <type>transmission_interface/SimpleTransmission</type>
    <joint name="left_wrist_spherical_2_joint">
      <hardwareInterface>PositionJointInterface</hardwareInterface>
    </joint>
    <actuator name="left_wrist_spherical_2_motor">
      <mechanicalReduction>1</mechanicalReduction>
    </actuator>
  </transmission>
  <transmission name="left_wrist_3_trans">
    <type>transmission_interface/SimpleTransmission</type>
    <joint name="left_wrist_3_joint">
      <hardwareInterface>PositionJointInterface</hardwareInterface>
    </joint>
    <actuator name="left_wrist_3_motor">
      <mechanicalReduction>1</mechanicalReduction>
    </actuator>
  </transmission>
  <joint name="right_kinova_robotiq_coupler_joint" type="fixed">
    <parent link="right_ee_link" />
    <child link="right_robotiq_coupler_link" />
    <origin rpy="-3.14159265 1.570796325 0" xyz="-0.16 0 0" />
  </joint>
  <link name="right_robotiq_coupler_link">
    <visual>
      <geometry>
        <mesh filename="package://movo_description/meshes/manipulation/robotiq/visual/kinova_robotiq_coupler.dae" />
      </geometry>
    </visual>
    <collision>
      <geometry>
        <mesh filename="package://movo_description/meshes/manipulation/robotiq/collision/kinova_robotiq_coupler.stl" />
      </geometry>
    </collision>
    <inertial>
      <mass value="0.1" />
      <origin xyz="0.0 0.0 0.0" />
      <inertia ixx="0.000001" ixy="0.000000" ixz="0.000000" iyx="0.000000" iyy="0.000001" iyz="0.000000" izx="0.000000" izy="0.000000" izz="0.000001" />
    </inertial>
  </link>
  <gazebo reference="right_robotiq_coupler_link">
    <implicitSpringDamper>1</implicitSpringDamper>
    <mu1>100000</mu1>
    <mu2>100000</mu2>
    <kp>100000000.0</kp>
    <kd>1.0</kd>
  </gazebo>
  <joint name="right_gripper_base_joint" type="fixed">
    <parent link="right_robotiq_coupler_link" />
    <child link="right_gripper_base_link" />
    <origin rpy="-1.570796325 1.570796325 0.0" xyz="0 0 -0.05105" />
  </joint>
  <link name="right_gripper_base_link">
    <visual>
      <geometry>
        <mesh filename="package://movo_description/meshes/manipulation/robotiq/visual/robotiq_85_base_link.dae" />
      </geometry>
    </visual>
    <collision>
      <geometry>
        <mesh filename="package://movo_description/meshes/manipulation/robotiq/collision/robotiq_85_base_link.stl" />
      </geometry>
    </collision>
    <inertial>
      <mass value="0.636951" />
      <origin xyz="0.0 0.0 0.0" />
      <inertia ixx="0.000380" ixy="0.000000" ixz="0.000000" iyx="0.000000" iyy="0.001110" iyz="0.000000" izx="0.000000" izy="0.000000" izz="0.001171" />
    </inertial>
  </link>
  <gazebo reference="right_gripper_base_link">
    <implicitSpringDamper>1</implicitSpringDamper>
    <mu1>100000</mu1>
    <mu2>100000</mu2>
    <kp>100000000.0</kp>
    <kd>1.0</kd>
  </gazebo>
  <joint name="right_gripper_finger1_joint" type="revolute">
    <parent link="right_gripper_base_link" />
    <child link="right_gripper_finger1_knuckle_link" />
    <axis xyz="0 0 1" />
    <origin rpy="3.14159265 0.0 0.0" xyz="0.05490451627 0.03060114443 0.0" />
    <limit effort="1000" lower="0.0" upper="0.804" velocity="2.0" />
  </joint>
  <joint name="right_gripper_finger2_joint" type="revolute">
    <parent link="right_gripper_base_link" />
    <child link="right_gripper_finger2_knuckle_link" />
    <axis xyz="0 0 1" />
    <origin rpy="0.0 0.0 0.0" xyz="0.05490451627 -0.03060114443 0.0" />
    <limit effort="1000" lower="-3.14" upper="3.14" velocity="100.0" />
    <mimic joint="right_gripper_finger1_joint" />
  </joint>
  <link name="right_gripper_finger1_knuckle_link">
    <visual>
      <geometry>
        <mesh filename="package://movo_description/meshes/manipulation/robotiq/visual/robotiq_85_knuckle_link.dae" />
      </geometry>
    </visual>
    <collision>
      <geometry>
        <mesh filename="package://movo_description/meshes/manipulation/robotiq/collision/robotiq_85_knuckle_link.stl" />
      </geometry>
    </collision>
    <inertial>
      <mass value="0.018491" />
      <origin xyz="0.0 0.0 0.0" />
      <inertia ixx="0.000009" ixy="-0.000001" ixz="0.000000" iyx="-0.000001" iyy="0.000001" iyz="0.000000" izx="0.000000" izy="0.000000" izz="0.000010" />
    </inertial>
  </link>
  <gazebo reference="right_gripper_finger1_knuckle_link">
    <implicitSpringDamper>1</implicitSpringDamper>
    <mu1>100000</mu1>
    <mu2>100000</mu2>
    <kp>100000000.0</kp>
    <kd>1.0</kd>
  </gazebo>
  <link name="right_gripper_finger2_knuckle_link">
    <visual>
      <geometry>
        <mesh filename="package://movo_description/meshes/manipulation/robotiq/visual/robotiq_85_knuckle_link.dae" />
      </geometry>
    </visual>
    <collision>
      <geometry>
        <mesh filename="package://movo_description/meshes/manipulation/robotiq/collision/robotiq_85_knuckle_link.stl" />
      </geometry>
    </collision>
    <inertial>
      <mass value="0.018491" />
      <origin xyz="0.0 0.0 0.0" />
      <inertia ixx="0.000009" ixy="-0.000001" ixz="0.000000" iyx="-0.000001" iyy="0.000001" iyz="0.000000" izx="0.000000" izy="0.000000" izz="0.000010" />
    </inertial>
  </link>
  <gazebo reference="right_gripper_finger2_knuckle_link">
    <implicitSpringDamper>1</implicitSpringDamper>
    <mu1>100000</mu1>
    <mu2>100000</mu2>
    <kp>100000000.0</kp>
    <kd>1.0</kd>
  </gazebo>
  <joint name="right_gripper_finger1_finger_joint" type="fixed">
    <parent link="right_gripper_finger1_knuckle_link" />
    <child link="right_gripper_finger1_finger_link" />
    <origin rpy="0 0 0" xyz="-0.00408552455 -0.03148604435 0.0" />
  </joint>
  <joint name="right_gripper_finger2_finger_joint" type="fixed">
    <parent link="right_gripper_finger2_knuckle_link" />
    <child link="right_gripper_finger2_finger_link" />
    <origin rpy="0 0 0" xyz="-0.00408552455 -0.03148604435 0.0" />
  </joint>
  <link name="right_gripper_finger1_finger_link">
    <visual>
      <geometry>
        <mesh filename="package://movo_description/meshes/manipulation/robotiq/visual/robotiq_85_finger_link.dae" />
      </geometry>
    </visual>
    <collision>
      <geometry>
        <mesh filename="package://movo_description/meshes/manipulation/robotiq/collision/robotiq_85_finger_link.stl" />
      </geometry>
    </collision>
    <inertial>
      <mass value="0.027309" />
      <origin xyz="0.0 0.0 0.0" />
      <inertia ixx="0.000003" ixy="-0.000002" ixz="0.000000" iyx="-0.000002" iyy="0.000021" iyz="0.000000" izx="0.000000" izy="0.000000" izz="0.000020" />
    </inertial>
  </link>
  <gazebo reference="right_gripper_finger1_finger_link">
    <implicitSpringDamper>1</implicitSpringDamper>
    <mu1>100000</mu1>
    <mu2>100000</mu2>
    <kp>100000000.0</kp>
    <kd>1.0</kd>
  </gazebo>
  <link name="right_gripper_finger2_finger_link">
    <visual>
      <geometry>
        <mesh filename="package://movo_description/meshes/manipulation/robotiq/visual/robotiq_85_finger_link.dae" />
      </geometry>
    </visual>
    <collision>
      <geometry>
        <mesh filename="package://movo_description/meshes/manipulation/robotiq/collision/robotiq_85_finger_link.stl" />
      </geometry>
    </collision>
    <inertial>
      <mass value="0.027309" />
      <origin xyz="0.0 0.0 0.0" />
      <inertia ixx="0.000003" ixy="-0.000002" ixz="0.000000" iyx="-0.000002" iyy="0.000021" iyz="0.000000" izx="0.000000" izy="0.000000" izz="0.000020" />
    </inertial>
  </link>
  <gazebo reference="right_gripper_finger2_finger_link">
    <implicitSpringDamper>1</implicitSpringDamper>
    <mu1>100000</mu1>
    <mu2>100000</mu2>
    <kp>100000000.0</kp>
    <kd>1.0</kd>
  </gazebo>
  <joint name="right_gripper_finger1_inner_knuckle_joint" type="continuous">
    <parent link="right_gripper_base_link" />
    <child link="right_gripper_finger1_inner_knuckle_link" />
    <axis xyz="0 0 1" />
    <origin rpy="3.14159265 0.0 0.0" xyz="0.06142 0.0127 0" />
    <limit effort="0.1" lower="-3.14" upper="3.14" velocity="100.0" />
    <mimic joint="right_gripper_finger1_joint" offset="0" />
  </joint>
  <joint name="right_gripper_finger2_inner_knuckle_joint" type="continuous">
    <parent link="right_gripper_base_link" />
    <child link="right_gripper_finger2_inner_knuckle_link" />
    <axis xyz="0 0 1" />
    <origin rpy="0 0 0" xyz="0.06142 -0.0127 0" />
    <limit effort="0.1" lower="-3.14" upper="3.14" velocity="100.0" />
    <mimic joint="right_gripper_finger1_joint" offset="0" />
  </joint>
  <link name="right_gripper_finger1_inner_knuckle_link">
    <visual>
      <geometry>
        <mesh filename="package://movo_description/meshes/manipulation/robotiq/visual/robotiq_85_inner_knuckle_link.dae" />
      </geometry>
    </visual>
    <collision>
      <geometry>
        <mesh filename="package://movo_description/meshes/manipulation/robotiq/collision/robotiq_85_inner_knuckle_link.stl" />
      </geometry>
    </collision>
    <inertial>
      <mass value="0.029951" />
      <origin xyz="0.0 0.0 0.0" />
      <inertia ixx="0.000039" ixy="0.000000" ixz="0.000000" iyx="0.000000" iyy="0.000005" iyz="0.000000" izx="0.000000" izy="0.000000" izz="0.000035" />
    </inertial>
  </link>
  <gazebo reference="right_gripper_finger1_inner_knuckle_link">
    <implicitSpringDamper>1</implicitSpringDamper>
    <mu1>100000</mu1>
    <mu2>100000</mu2>
    <kp>100000000.0</kp>
    <kd>1.0</kd>
  </gazebo>
  <link name="right_gripper_finger2_inner_knuckle_link">
    <visual>
      <geometry>
        <mesh filename="package://movo_description/meshes/manipulation/robotiq/visual/robotiq_85_inner_knuckle_link.dae" />
      </geometry>
    </visual>
    <collision>
      <geometry>
        <mesh filename="package://movo_description/meshes/manipulation/robotiq/collision/robotiq_85_inner_knuckle_link.stl" />
      </geometry>
    </collision>
    <inertial>
      <mass value="0.029951" />
      <origin xyz="0.0 0.0 0.0" />
      <inertia ixx="0.000039" ixy="0.000000" ixz="0.000000" iyx="0.000000" iyy="0.000005" iyz="0.000000" izx="0.000000" izy="0.000000" izz="0.000035" />
    </inertial>
  </link>
  <gazebo reference="right_gripper_finger2_inner_knuckle_link">
    <implicitSpringDamper>1</implicitSpringDamper>
    <mu1>100000</mu1>
    <mu2>100000</mu2>
    <kp>100000000.0</kp>
    <kd>1.0</kd>
  </gazebo>
  <joint name="right_gripper_finger1_finger_tip_joint" type="continuous">
    <parent link="right_gripper_finger1_inner_knuckle_link" />
    <child link="right_gripper_finger1_finger_tip_link" />
    <axis xyz="0 0 1" />
    <origin rpy="0.0 0.0 0.0" xyz="0.04303959807 -0.03759940821 0.0" />
    <limit effort="0.1" lower="-3.14" upper="3.14" velocity="100.0" />
    <mimic joint="right_gripper_finger1_joint" multiplier="-1" />
  </joint>
  <joint name="right_gripper_finger2_finger_tip_joint" type="continuous">
    <parent link="right_gripper_finger2_inner_knuckle_link" />
    <child link="right_gripper_finger2_finger_tip_link" />
    <axis xyz="0 0 1" />
    <origin rpy="0.0 0.0 0.0" xyz="0.04303959807 -0.03759940821  0.0" />
    <limit effort="0.1" lower="-3.14" upper="3.14" velocity="100.0" />
    <mimic joint="right_gripper_finger1_joint" multiplier="-1" />
  </joint>
  <link name="right_gripper_finger1_finger_tip_link">
    <visual>
      <geometry>
        <mesh filename="package://movo_description/meshes/manipulation/robotiq/visual/robotiq_85_finger_tip_link.dae" />
      </geometry>
    </visual>
    <collision>
      <geometry>
        <mesh filename="package://movo_description/meshes/manipulation/robotiq/collision/robotiq_85_finger_tip_link.stl" />
      </geometry>
    </collision>
    <inertial>
      <mass value="0.019555" />
      <origin xyz="0.0 0.0 0.0" />
      <inertia ixx="0.000002" ixy="0.000000" ixz="0.000000" iyx="0.000000" iyy="0.000005" iyz="0.000000" izx="0.000000" izy="0.000000" izz="0.000006" />
    </inertial>
  </link>
  <gazebo reference="right_gripper_finger1_finger_tip_link">
    <implicitSpringDamper>1</implicitSpringDamper>
    <mu1>100000</mu1>
    <mu2>100000</mu2>
    <kp>100000000.0</kp>
    <kd>1.0</kd>
  </gazebo>
  <link name="right_gripper_finger2_finger_tip_link">
    <visual>
      <geometry>
        <mesh filename="package://movo_description/meshes/manipulation/robotiq/visual/robotiq_85_finger_tip_link.dae" />
      </geometry>
    </visual>
    <collision>
      <geometry>
        <mesh filename="package://movo_description/meshes/manipulation/robotiq/collision/robotiq_85_finger_tip_link.stl" />
      </geometry>
    </collision>
    <inertial>
      <mass value="0.019555" />
      <origin xyz="0.0 0.0 0.0" />
      <inertia ixx="0.000002" ixy="0.000000" ixz="0.000000" iyx="0.000000" iyy="0.000005" iyz="0.000000" izx="0.000000" izy="0.000000" izz="0.000006" />
    </inertial>
  </link>
  <gazebo reference="right_gripper_finger2_finger_tip_link">
    <implicitSpringDamper>1</implicitSpringDamper>
    <mu1>100000</mu1>
    <mu2>100000</mu2>
    <kp>100000000.0</kp>
    <kd>1.0</kd>
  </gazebo>
  <transmission name="right_gripper_finger1_trans">
    <type>transmission_interface/SimpleTransmission</type>
    <joint name="right_gripper_finger1_joint">
      <hardwareInterface>PositionJointInterface</hardwareInterface>
    </joint>
    <actuator name="right_gripper_finger1_motor">
      <mechanicalReduction>1</mechanicalReduction>
      <hardwareInterface>PositionJointInterface</hardwareInterface>
    </actuator>
  </transmission>
  <gazebo>
    <!-- loading plugin: mimic joints works in gazebo now -->
    <plugin filename="libroboticsgroup_gazebo_mimic_joint_plugin.so" name="right_mimic_robotiq_85_1">
      <joint>right_gripper_finger1_joint</joint>
      <mimicJoint>right_gripper_finger2_joint</mimicJoint>
      <!--multiplier>1.0</multiplier>
                <offset>0.0</offset-->
    </plugin>
    <plugin filename="libroboticsgroup_gazebo_mimic_joint_plugin.so" name="right_mimic_robotiq_85_2">
      <joint>right_gripper_finger1_joint</joint>
      <mimicJoint>right_gripper_finger2_inner_knuckle_joint</mimicJoint>
      <!--multiplier>1.0</multiplier>
                <offset>0.0</offset-->
    </plugin>
    <plugin filename="libroboticsgroup_gazebo_mimic_joint_plugin.so" name="right_mimic_robotiq_85_3">
      <joint>right_gripper_finger1_joint</joint>
      <mimicJoint>right_gripper_finger1_inner_knuckle_joint</mimicJoint>
      <!--multiplier>1.0</multiplier>
                <offset>0.0</offset-->
    </plugin>
    <plugin filename="libroboticsgroup_gazebo_mimic_joint_plugin.so" name="right_mimic_robotiq_85_4">
      <joint>right_gripper_finger1_joint</joint>
      <mimicJoint>right_gripper_finger1_finger_tip_joint</mimicJoint>
      <multiplier>-1.0</multiplier>
      <offset>0.0</offset>
    </plugin>
    <plugin filename="libroboticsgroup_gazebo_mimic_joint_plugin.so" name="right_mimic_robotiq_85_5">
      <joint>right_gripper_finger1_joint</joint>
      <mimicJoint>right_gripper_finger2_finger_tip_joint</mimicJoint>
      <multiplier>-1.0</multiplier>
      <offset>0.0</offset>
    </plugin>
  </gazebo>
  <joint name="left_gripper_base_joint" type="fixed">
    <parent link="left_ee_link" />
    <child link="left_gripper_base_link" />
    <origin rpy="-3.14159265 1.570796325 0" xyz="-0.16 0 0" />
  </joint>
  <link name="left_gripper_base_link">
    <visual>
      <geometry>
        <mesh filename="package://movo_description/meshes/manipulation/kinova_grippers/visual/kg3_base_link.dae" />
      </geometry>
    </visual>
    <collision>
      <geometry>
        <mesh filename="package://movo_description/meshes/manipulation/kinova_grippers/collision/kg3_base_link.stl" />
      </geometry>
    </collision>
    <inertial>
      <mass value="0.799312" />
      <origin xyz="0.000007 -0.005175 -0.067280" />
      <inertia ixx="0.000790" ixy="0.000000" ixz="0.000004" iyx="0.000000" iyy="0.000650" iyz="0.000003" izx="0.000004" izy="0.000003" izz="0.000823" />
    </inertial>
  </link>
  <gazebo reference="left_gripper_base_link">
    <!--implicitSpringDamper>1</implicitSpringDamper-->
    <kp>1000000.0</kp>
    <kd>1.0</kd>
    <mu1>0.8</mu1>
    <mu2>0.8</mu2>
    <maxVel>0.0</maxVel>
    <minDepth>0.0001</minDepth>
  </gazebo>
  <joint name="left_gripper_finger1_joint" type="revolute">
    <parent link="left_gripper_base_link" />
    <child link="left_gripper_finger1_knuckle_link" />
    <axis xyz="0 0 1" />
    <origin rpy="1.4676 -0.0092813 -1.7501" xyz="-0.0027954 0.031318 -0.11464" />
    <limit damping="0.005" effort="3.0" friction="0.005" lower="0.0" upper="0.986111027" velocity="1.0" />
  </joint>
  <link name="left_gripper_finger1_knuckle_link">
    <visual>
      <geometry>
        <mesh filename="package://movo_description/meshes/manipulation/kinova_grippers/visual/finger_knuckle.dae" />
      </geometry>
    </visual>
    <collision>
      <geometry>
        <mesh filename="package://movo_description/meshes/manipulation/kinova_grippers/collision/finger_knuckle.stl" />
      </geometry>
    </collision>
    <inertial>
      <mass value="0.009127" />
      <origin xyz="-0.016752 -0.013874 0.0" />
      <inertia ixx="0.000002" ixy="0.000001" ixz="0.000000" iyx="0.000001" iyy="0.000001" iyz="0.000000" izx="0.000000" izy="0.000000" izz="0.000002" />
    </inertial>
  </link>
  <gazebo reference="left_gripper_finger1_knuckle_link">
    <!--implicitSpringDamper>1</implicitSpringDamper-->
    <kp>1000000.0</kp>
    <kd>1.0</kd>
    <mu1>0.8</mu1>
    <mu2>0.8</mu2>
    <maxVel>0.0</maxVel>
    <minDepth>0.0001</minDepth>
  </gazebo>
  <joint name="left_gripper_finger2_joint" type="revolute">
    <parent link="left_gripper_base_link" />
    <child link="left_gripper_finger2_knuckle_link" />
    <axis xyz="0 0 1" />
    <origin rpy="1.570796325 0 1.7555" xyz="0.022289 -0.027253 -0.11471" />
    <limit damping="0.005" effort="3.0" friction="0.005" lower="0.0" upper="0.986111027" velocity="1.0" />
    <mimic joint="left_gripper_finger1_joint" />
  </joint>
  <link name="left_gripper_finger2_knuckle_link">
    <visual>
      <geometry>
        <mesh filename="package://movo_description/meshes/manipulation/kinova_grippers/visual/finger_knuckle.dae" />
      </geometry>
    </visual>
    <collision>
      <geometry>
        <mesh filename="package://movo_description/meshes/manipulation/kinova_grippers/collision/finger_knuckle.stl" />
      </geometry>
    </collision>
    <inertial>
      <mass value="0.009127" />
      <origin xyz="-0.016752 -0.013874 0.0" />
      <inertia ixx="0.000002" ixy="0.000001" ixz="0.000000" iyx="0.000001" iyy="0.000001" iyz="0.000000" izx="0.000000" izy="0.000000" izz="0.000002" />
    </inertial>
  </link>
  <gazebo reference="left_gripper_finger2_knuckle_link">
    <!--implicitSpringDamper>1</implicitSpringDamper-->
    <kp>1000000.0</kp>
    <kd>1.0</kd>
    <mu1>0.8</mu1>
    <mu2>0.8</mu2>
    <maxVel>0.0</maxVel>
    <minDepth>0.0001</minDepth>
  </gazebo>
  <joint name="left_gripper_finger3_joint" type="revolute">
    <parent link="left_gripper_base_link" />
    <child link="left_gripper_finger3_knuckle_link" />
    <axis xyz="0 0 1" />
    <origin rpy="1.570796325 0 1.3861" xyz="-0.022284 -0.027223 -0.11473" />
    <limit damping="0.005" effort="3.0" friction="0.005" lower="0.0" upper="0.986111027" velocity="1.0" />
    <mimic joint="left_gripper_finger1_joint" />
  </joint>
  <link name="left_gripper_finger3_knuckle_link">
    <visual>
      <geometry>
        <mesh filename="package://movo_description/meshes/manipulation/kinova_grippers/visual/finger_knuckle.dae" />
      </geometry>
    </visual>
    <collision>
      <geometry>
        <mesh filename="package://movo_description/meshes/manipulation/kinova_grippers/collision/finger_knuckle.stl" />
      </geometry>
    </collision>
    <inertial>
      <mass value="0.009127" />
      <origin xyz="-0.016752 -0.013874 0.0" />
      <inertia ixx="0.000002" ixy="0.000001" ixz="0.000000" iyx="0.000001" iyy="0.000001" iyz="0.000000" izx="0.000000" izy="0.000000" izz="0.000002" />
    </inertial>
  </link>
  <gazebo reference="left_gripper_finger3_knuckle_link">
    <!--implicitSpringDamper>1</implicitSpringDamper-->
    <kp>1000000.0</kp>
    <kd>1.0</kd>
    <mu1>0.8</mu1>
    <mu2>0.8</mu2>
    <maxVel>0.0</maxVel>
    <minDepth>0.0001</minDepth>
  </gazebo>
  <joint name="left_gripper_finger1_finger_tip_joint" type="fixed">
    <parent link="left_gripper_finger1_knuckle_link" />
    <child link="left_gripper_finger1_finger_tip_link" />
    <origin rpy="0 0 0" xyz="-0.0245981 -0.036051 0.0" />
  </joint>
  <link name="left_gripper_finger1_finger_tip_link">
    <visual>
      <geometry>
        <mesh filename="package://movo_description/meshes/manipulation/kinova_grippers/visual/finger_tip.dae" />
      </geometry>
    </visual>
    <collision>
      <geometry>
        <mesh filename="package://movo_description/meshes/manipulation/kinova_grippers/collision/finger_tip.stl" />
      </geometry>
    </collision>
    <inertial>
      <mass value="0.012690" />
      <origin xyz="-0.011926 -0.009701 0.0" />
      <inertia ixx="0.000002" ixy="0.000001" ixz="0.000000" iyx="0.000001" iyy="0.000001" iyz="0.000000" izx="0.000000" izy="0.000000" izz="0.000002" />
    </inertial>
  </link>
  <gazebo reference="left_gripper_finger1_finger_tip_link">
    <!--implicitSpringDamper>1</implicitSpringDamper-->
    <kp>1000000.0</kp>
    <kd>1.0</kd>
    <mu1>0.8</mu1>
    <mu2>0.8</mu2>
    <maxVel>0.0</maxVel>
    <minDepth>0.0001</minDepth>
  </gazebo>
  <joint name="left_gripper_finger2_finger_tip_joint" type="fixed">
    <parent link="left_gripper_finger2_knuckle_link" />
    <child link="left_gripper_finger2_finger_tip_link" />
    <origin rpy="0 0 0" xyz="-0.0245981 -0.036051 0.0" />
  </joint>
  <link name="left_gripper_finger2_finger_tip_link">
    <visual>
      <geometry>
        <mesh filename="package://movo_description/meshes/manipulation/kinova_grippers/visual/finger_tip.dae" />
      </geometry>
    </visual>
    <collision>
      <geometry>
        <mesh filename="package://movo_description/meshes/manipulation/kinova_grippers/collision/finger_tip.stl" />
      </geometry>
    </collision>
    <inertial>
      <mass value="0.012690" />
      <origin xyz="-0.011926 -0.009701 0.0" />
      <inertia ixx="0.000002" ixy="0.000001" ixz="0.000000" iyx="0.000001" iyy="0.000001" iyz="0.000000" izx="0.000000" izy="0.000000" izz="0.000002" />
    </inertial>
  </link>
  <gazebo reference="left_gripper_finger2_finger_tip_link">
    <!--implicitSpringDamper>1</implicitSpringDamper-->
    <kp>1000000.0</kp>
    <kd>1.0</kd>
    <mu1>0.8</mu1>
    <mu2>0.8</mu2>
    <maxVel>0.0</maxVel>
    <minDepth>0.0001</minDepth>
  </gazebo>
  <joint name="left_gripper_finger3_finger_tip_joint" type="fixed">
    <parent link="left_gripper_finger3_knuckle_link" />
    <child link="left_gripper_finger3_finger_tip_link" />
    <origin rpy="0 0 0" xyz="-0.0245981 -0.036051 0.0" />
  </joint>
  <link name="left_gripper_finger3_finger_tip_link">
    <visual>
      <geometry>
        <mesh filename="package://movo_description/meshes/manipulation/kinova_grippers/visual/finger_tip.dae" />
      </geometry>
    </visual>
    <collision>
      <geometry>
        <mesh filename="package://movo_description/meshes/manipulation/kinova_grippers/collision/finger_tip.stl" />
      </geometry>
    </collision>
    <inertial>
      <mass value="0.012690" />
      <origin xyz="-0.011926 -0.009701 0.0" />
      <inertia ixx="0.000002" ixy="0.000001" ixz="0.000000" iyx="0.000001" iyy="0.000001" iyz="0.000000" izx="0.000000" izy="0.000000" izz="0.000002" />
    </inertial>
  </link>
  <gazebo reference="left_gripper_finger3_finger_tip_link">
    <!--implicitSpringDamper>1</implicitSpringDamper-->
    <kp>1000000.0</kp>
    <kd>1.0</kd>
    <mu1>0.8</mu1>
    <mu2>0.8</mu2>
    <maxVel>0.0</maxVel>
    <minDepth>0.0001</minDepth>
  </gazebo>
  <transmission name="left_gripper_finger1_trans">
    <type>transmission_interface/SimpleTransmission</type>
    <joint name="left_gripper_finger1_joint">
      <hardwareInterface>EffortJointInterface</hardwareInterface>
    </joint>
    <actuator name="left_gripper_finger1_motor">
      <mechanicalReduction>1</mechanicalReduction>
      <hardwareInterface>EffortJointInterface</hardwareInterface>
    </actuator>
  </transmission>
  <gazebo>
    <!-- loading plugin: mimic joints works in gazebo now -->
    <plugin filename="libroboticsgroup_gazebo_mimic_joint_plugin.so" name="left_mimic_finger_1_2">
      <joint>left_gripper_finger1_joint</joint>
      <mimicJoint>left_gripper_finger2_joint</mimicJoint>
    </plugin>
    <!-- loading plugin: mimic joints works in gazebo now -->
    <plugin filename="libroboticsgroup_gazebo_mimic_joint_plugin.so" name="left_mimic_finger_1_3">
      <joint>left_gripper_finger1_joint</joint>
      <mimicJoint>left_gripper_finger3_joint</mimicJoint>
    </plugin>
  </gazebo>
  <gazebo>
    <plugin filename="libgazebo_grasp_fix.so" name="gazebo_right_grasp_fix">
      <arm>
        <arm_name>right_arm</arm_name>
        <palm_link>right_wrist_3_link</palm_link>
        <gripper_link>right_gripper_finger1_knuckle_link</gripper_link>
        <gripper_link>right_gripper_finger1_finger_link</gripper_link>
        <gripper_link>right_gripper_finger1_inner_knuckle_link</gripper_link>
        <gripper_link>right_gripper_finger1_finger_tip_link</gripper_link>
        <gripper_link>right_gripper_finger2_knuckle_link</gripper_link>
        <gripper_link>right_gripper_finger2_finger_link</gripper_link>
        <gripper_link>right_gripper_finger2_inner_knuckle_link</gripper_link>
        <gripper_link>right_gripper_finger2_finger_tip_link</gripper_link>
      </arm>
      <forces_angle_tolerance>90</forces_angle_tolerance>
      <update_rate>20</update_rate>
      <grip_count_threshold>1</grip_count_threshold>
      <max_grip_count>2</max_grip_count>
      <release_tolerance>0.005</release_tolerance>
      <disable_collisions_on_attach>true</disable_collisions_on_attach>
      <contact_topic>right_gripper/contacts</contact_topic>
    </plugin>
  </gazebo>
  <gazebo>
    <plugin filename="libgazebo_grasp_fix.so" name="gazebo_left_grasp_fix">
      <arm>
        <arm_name>left_arm</arm_name>
        <palm_link>left_wrist_3_link</palm_link>
        <gripper_link>left_gripper_finger1_knuckle_link</gripper_link>
        <gripper_link>left_gripper_finger2_knuckle_link</gripper_link>
        <gripper_link>left_gripper_finger3_knuckle_link</gripper_link>
      </arm>
      <forces_angle_tolerance>100</forces_angle_tolerance>
      <update_rate>50</update_rate>
      <grip_count_threshold>1</grip_count_threshold>
      <max_grip_count>8</max_grip_count>
      <release_tolerance>0.006</release_tolerance>
      <disable_collisions_on_attach>true</disable_collisions_on_attach>
      <contact_topic>left_gripper/contacts</contact_topic>
    </plugin>
  </gazebo>
</robot>
